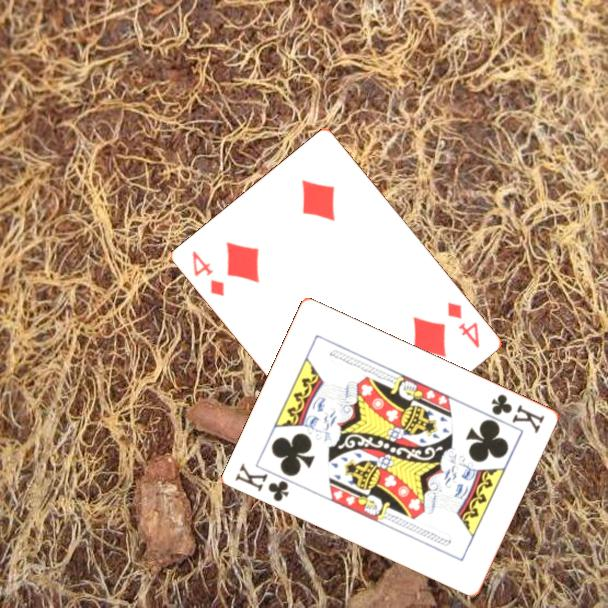c13: (232, 459, 293, 505), (488, 390, 548, 436)
d04: (444, 298, 483, 351), (189, 247, 228, 299)
